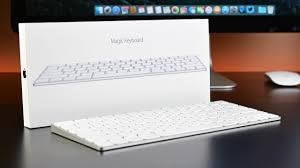keyboard: (50, 96, 291, 162)
